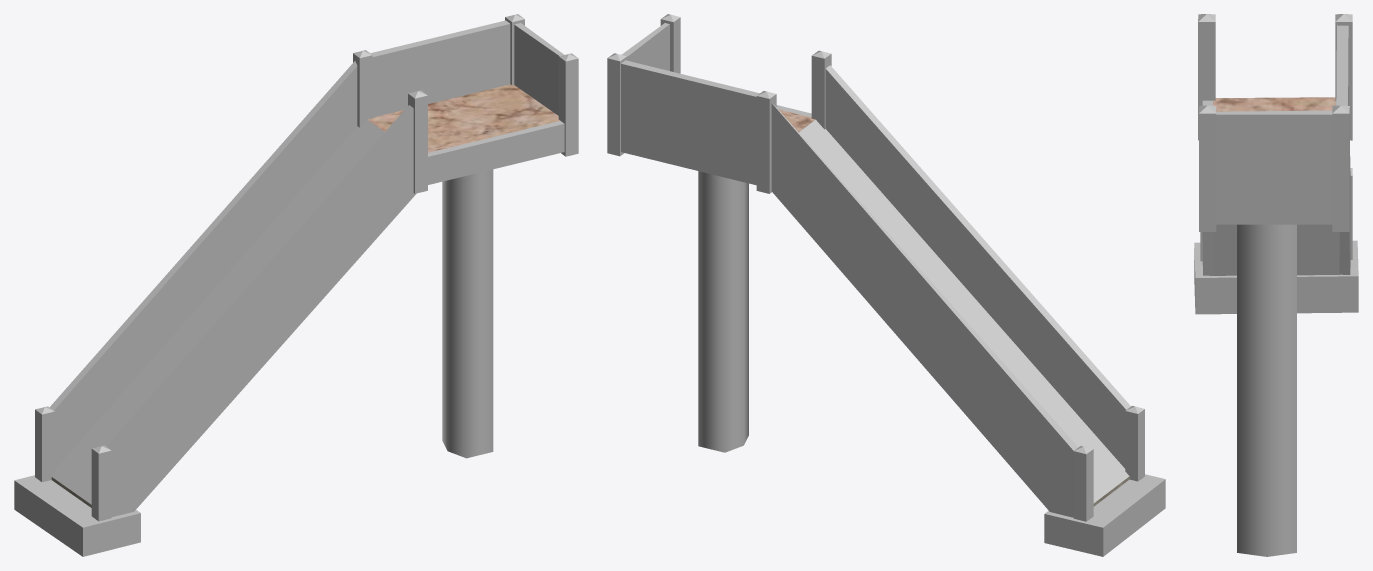
The model's file is footbridge03l.fbx.
3 views of the same model, side by side, from view 1: azimuth 30°, elevation 25°; view 2: azimuth 150°, elevation 25°; view 3: azimuth 270°, elevation 25° (orthographic). The views are drawn at different scales.
Visible parts, largest first — view 1: footbridge03; view 2: footbridge03; view 3: footbridge03.
Part boxes in pixels (box(x1,y1,x2,y2)): footbridge03: box(14, 14, 578, 556); footbridge03: box(607, 14, 1165, 556); footbridge03: box(1194, 14, 1358, 556).
Size of the model in its own units: 10.54 by 7.86 by 2.41.
